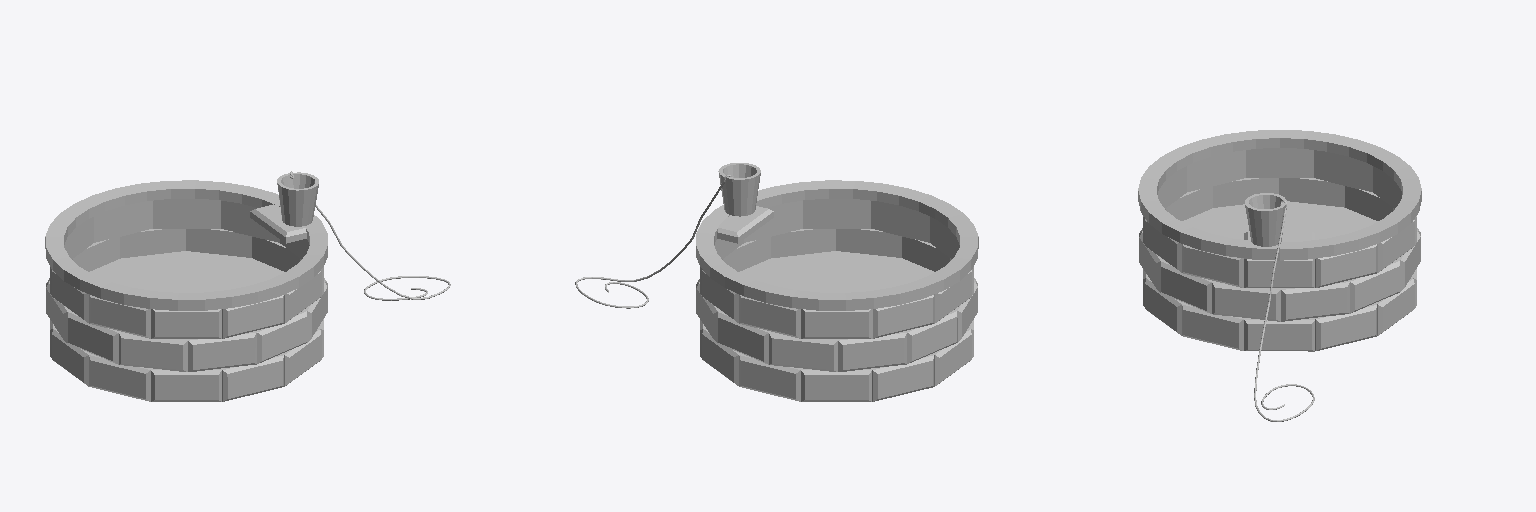
File: Kolodec.obj
The picture shows the model from 3 angles: view 1: azimuth 30°, elevation 25°; view 2: azimuth 150°, elevation 25°; view 3: azimuth 270°, elevation 25°; orthographic projection.
Visible parts, largest first — view 1: Kolodec, Цилиндр, Vedro, Vervka; view 2: Kolodec, Цилиндр, Vedro, Vervka; view 3: Kolodec, Цилиндр, Vedro, Vervka.
Part boxes in pixels (left/top/right/bottom): Kolodec: left=46, top=199, right=327, bottom=401; Цилиндр: left=45, top=180, right=327, bottom=310; Vedro: left=277, top=172, right=318, bottom=226; Vervka: left=290, top=171, right=450, bottom=300; Kolodec: left=696, top=199, right=977, bottom=401; Цилиндр: left=696, top=180, right=978, bottom=310; Vedro: left=718, top=163, right=760, bottom=216; Vervka: left=575, top=175, right=731, bottom=308; Kolodec: left=1139, top=148, right=1420, bottom=351; Цилиндр: left=1138, top=130, right=1421, bottom=260; Vedro: left=1245, top=193, right=1286, bottom=246; Vervka: left=1254, top=200, right=1314, bottom=421.
Bounding box in the file's own units: 1.22 × 0.4474 × 0.7819.